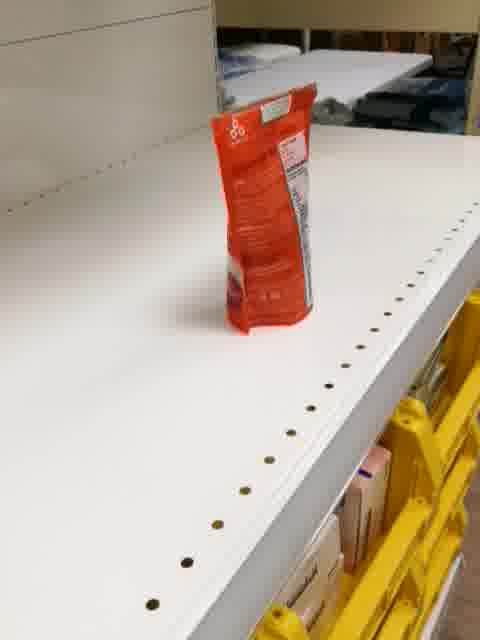whitechia: (208, 80, 326, 336)
